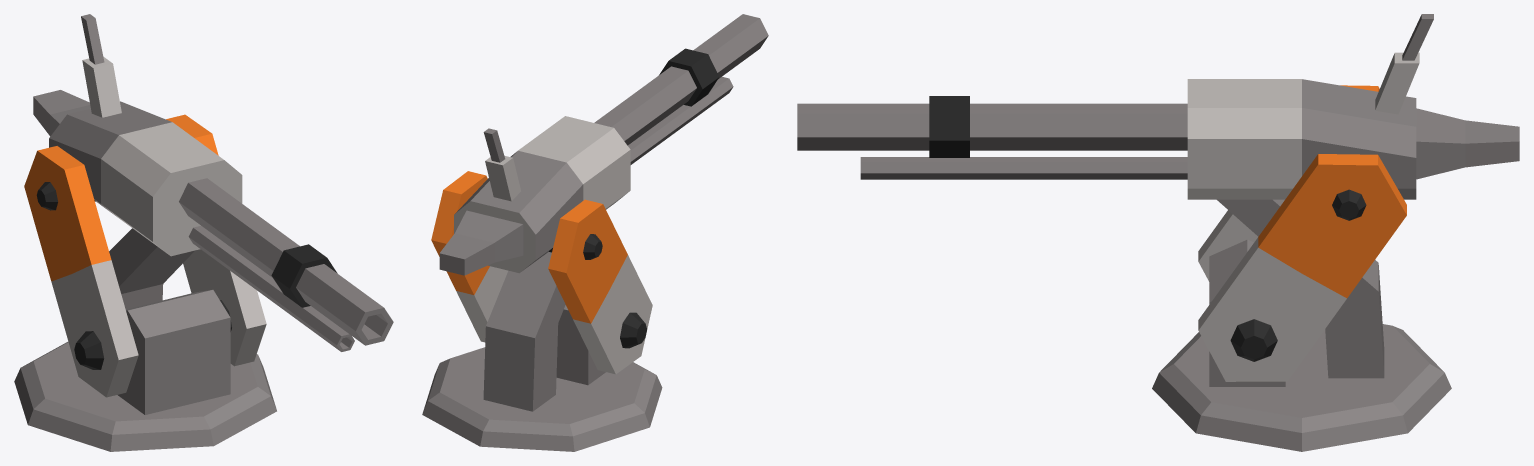
File: scifi_scifi-turret-head-laser-big.fbx
3 views of the same model, side by side, from view 1: azimuth 30°, elevation 25°; view 2: azimuth 150°, elevation 25°; view 3: azimuth 270°, elevation 25° (orthographic). The views are drawn at different scales.
Visible parts, largest first — view 1: scifi_scifi_turret_head_laser_big; view 2: scifi_scifi_turret_head_laser_big; view 3: scifi_scifi_turret_head_laser_big.
Boxes of the visible parts, x1=… form: scifi_scifi_turret_head_laser_big: x1=14, y1=14, x2=393, y2=451; scifi_scifi_turret_head_laser_big: x1=422, y1=14, x2=768, y2=451; scifi_scifi_turret_head_laser_big: x1=797, y1=14, x2=1519, y2=451.
Bounding box in the file's own units: 83.05 × 114 × 200.
